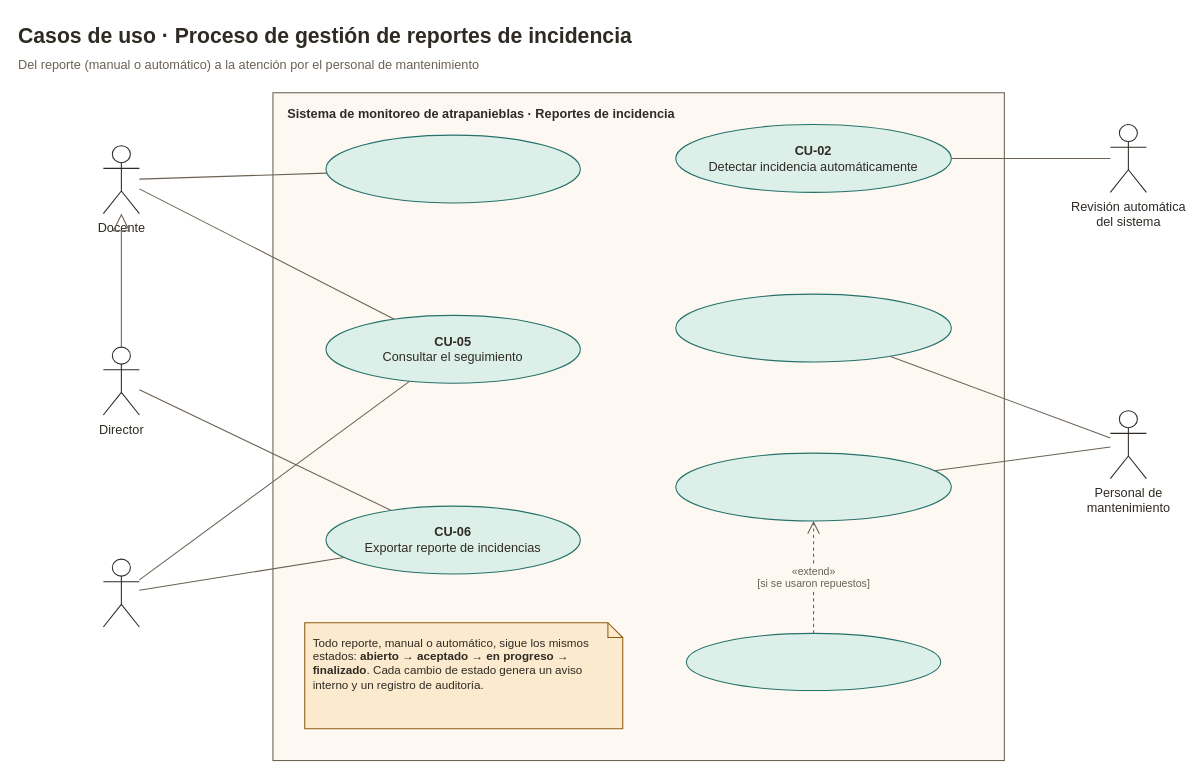
The diagram is 1203 pixels wide and 779 high, and some of its shapes have lost their labels. Each missing label, with the centre of its shape:
"Administrador" goes at [120,592].
"CU-01 Reportar incidencia" goes at [452,168].
"CU-03 Aceptar reporte" goes at [813,327].
"CU-04 Atender y finalizar el mantenimiento" goes at [813,486].
"Registrar repuestos utilizados" goes at [813,661].
